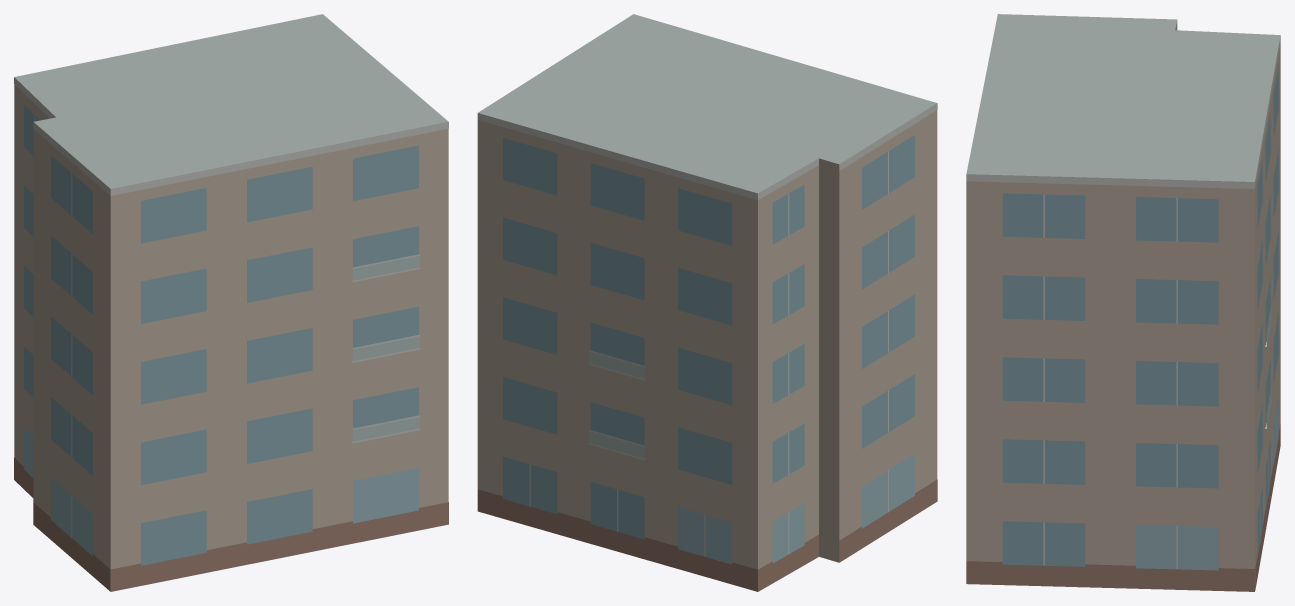
The model's file is survey-upis-32611343.glb.
3 renders of one model, left to right at view 1: azimuth 30°, elevation 25°; view 2: azimuth 150°, elevation 25°; view 3: azimuth 270°, elevation 25°, orthographic. The views are drawn at different scales.
Visible parts, largest first — view 1: survey-upis-32611343.tmp; view 2: survey-upis-32611343.tmp; view 3: survey-upis-32611343.tmp.
Part boxes in pixels (<box>): survey-upis-32611343.tmp: <box>14,14,448,591</box>; survey-upis-32611343.tmp: <box>477,14,937,591</box>; survey-upis-32611343.tmp: <box>966,14,1280,591</box>.
Size of the model in its own units: 12.5 by 14.2 by 9.88.
